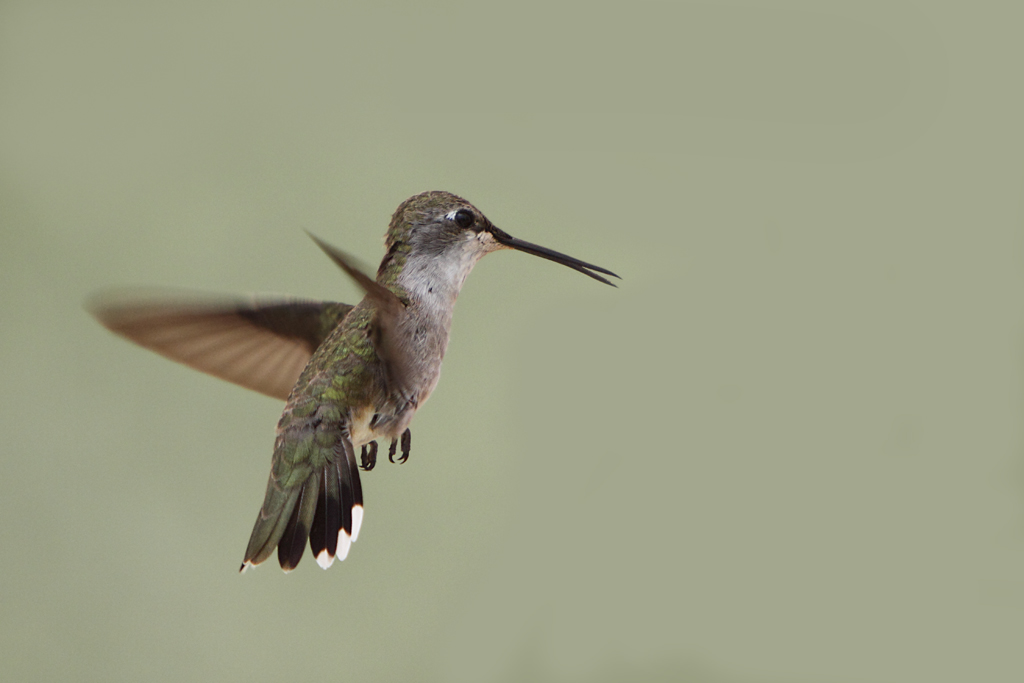archilochus alexandri: (78, 184, 621, 575)
